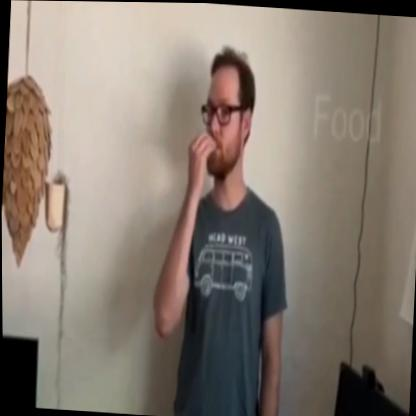Food: (176, 47, 270, 184)
